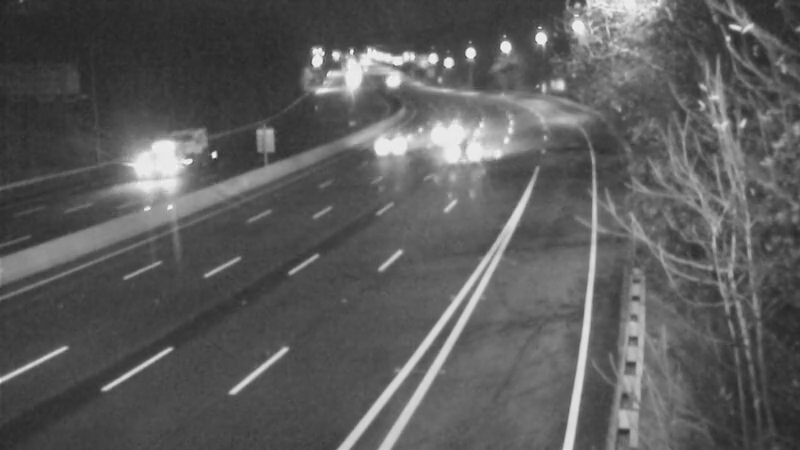vehicle: (116, 125, 196, 205), (365, 59, 415, 109), (427, 105, 477, 155), (371, 116, 421, 166), (441, 125, 491, 175)
